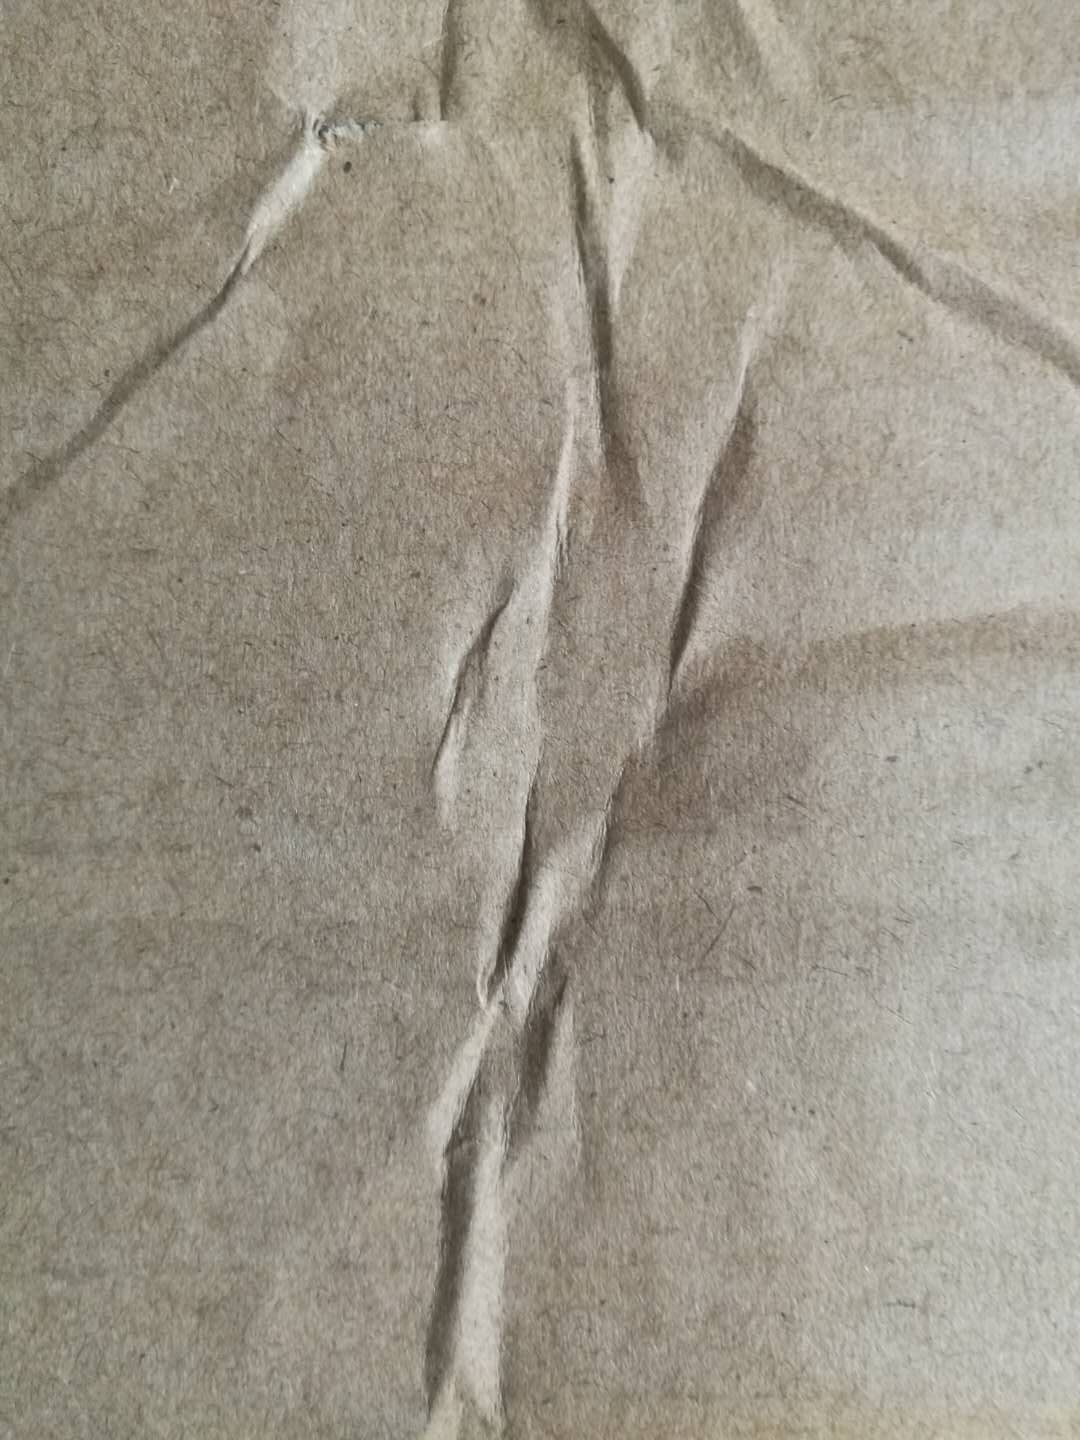defect: (5, 5, 1080, 1439)
